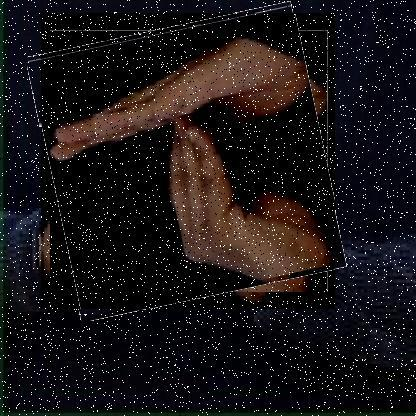Z: (38, 13, 335, 310)
